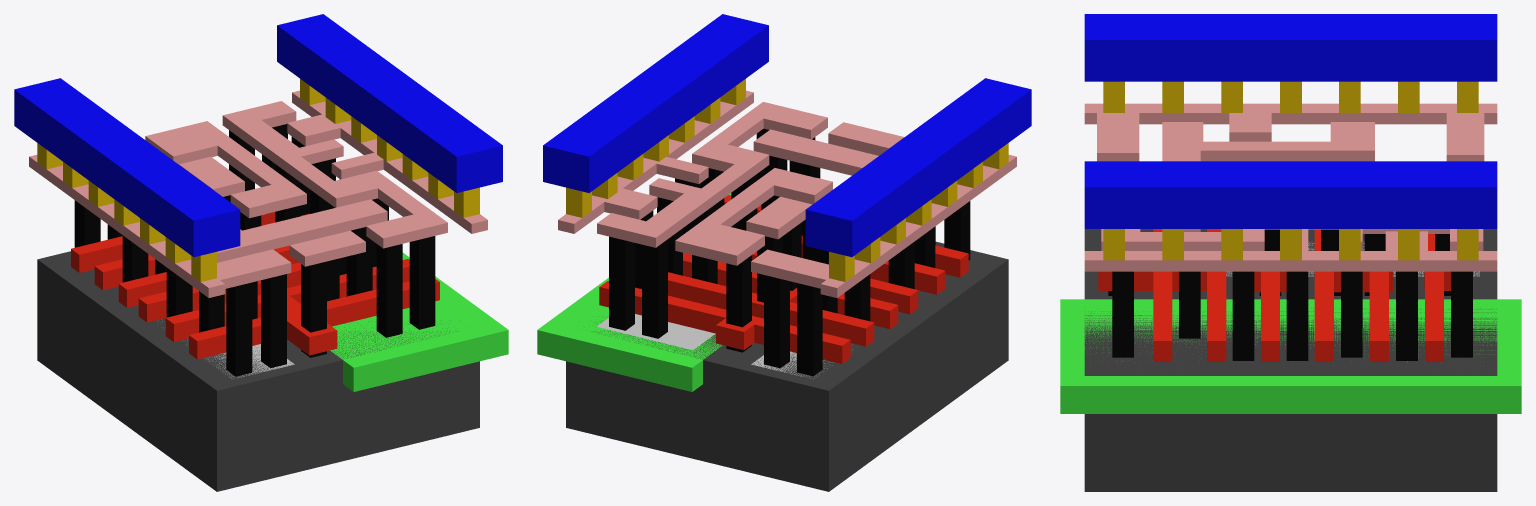
Rendered from sky130_fd_sc_hd__a21oi_2.obj.
3 renders of one model, left to right at view 1: azimuth 30°, elevation 25°; view 2: azimuth 150°, elevation 25°; view 3: azimuth 270°, elevation 25°, orthographic. The views are drawn at different scales.
Parts seen in each view (by area): view 1: subs, metal1, li, licon, poly, nwell, mcon, diff; view 2: subs, metal1, li, licon, poly, nwell, mcon, tap; view 3: metal1, subs, li, nwell, licon, poly, mcon.
Boxes of the visible parts, x1,y1,x2,y2 form: subs: (37,251,479,491); metal1: (14,14,502,257); li: (29,90,487,297); licon: (74,124,435,376); poly: (71,212,439,359); nwell: (330,252,508,391); mcon: (37,79,479,281); diff: (158,321,294,378); subs: (566,241,1008,491); metal1: (543,14,1031,257); li: (558,90,1016,297); licon: (609,128,970,376); poly: (599,195,968,363); nwell: (537,193,731,391); mcon: (566,79,1008,281); tap: (596,314,715,350); metal1: (1084,14,1497,228); subs: (1084,229,1497,491); li: (1084,103,1497,271); nwell: (1060,299,1521,413); licon: (1108,229,1472,360); poly: (1098,229,1450,361); mcon: (1103,81,1478,260).
Size of the model in its own units: 3.2 by 2.74 by 3.6.
